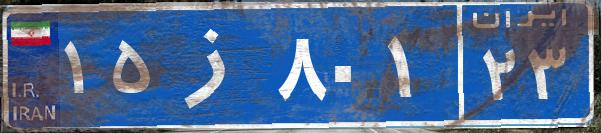0: (330, 28, 385, 110)
1: (385, 28, 445, 110), (57, 26, 110, 107)
2: (475, 38, 525, 113)
3: (525, 38, 570, 115)
5: (110, 28, 158, 105)
8: (273, 28, 330, 110)
ز: (158, 15, 273, 115)
